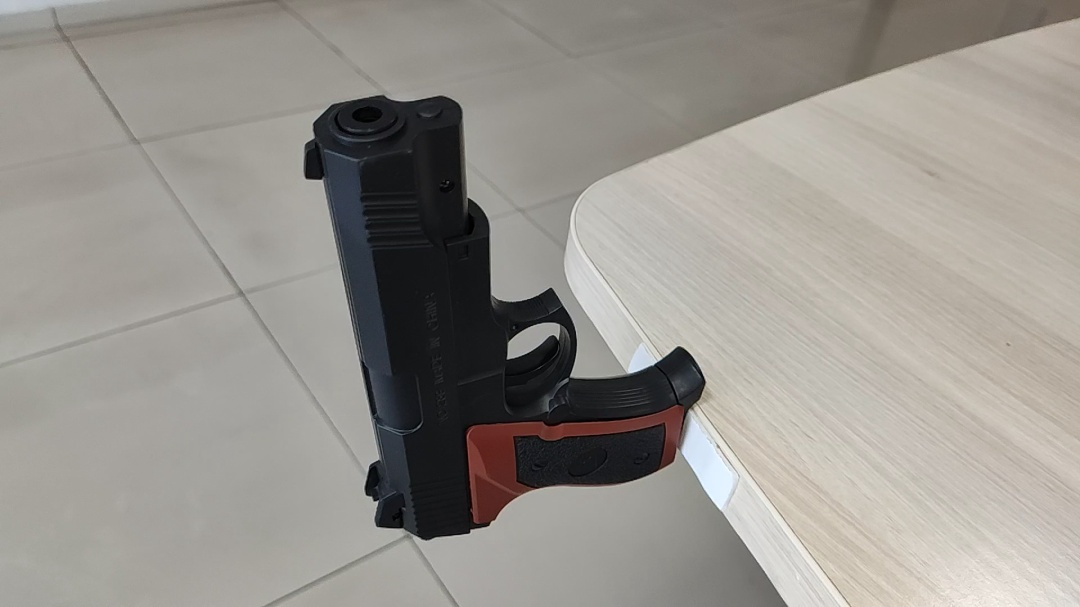gun: (304, 90, 707, 540)
